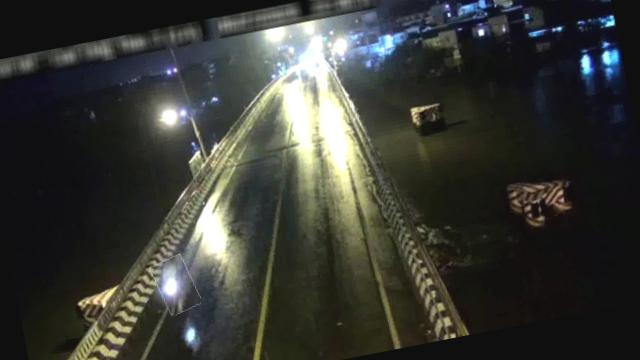Bike: (152, 253, 201, 316)
